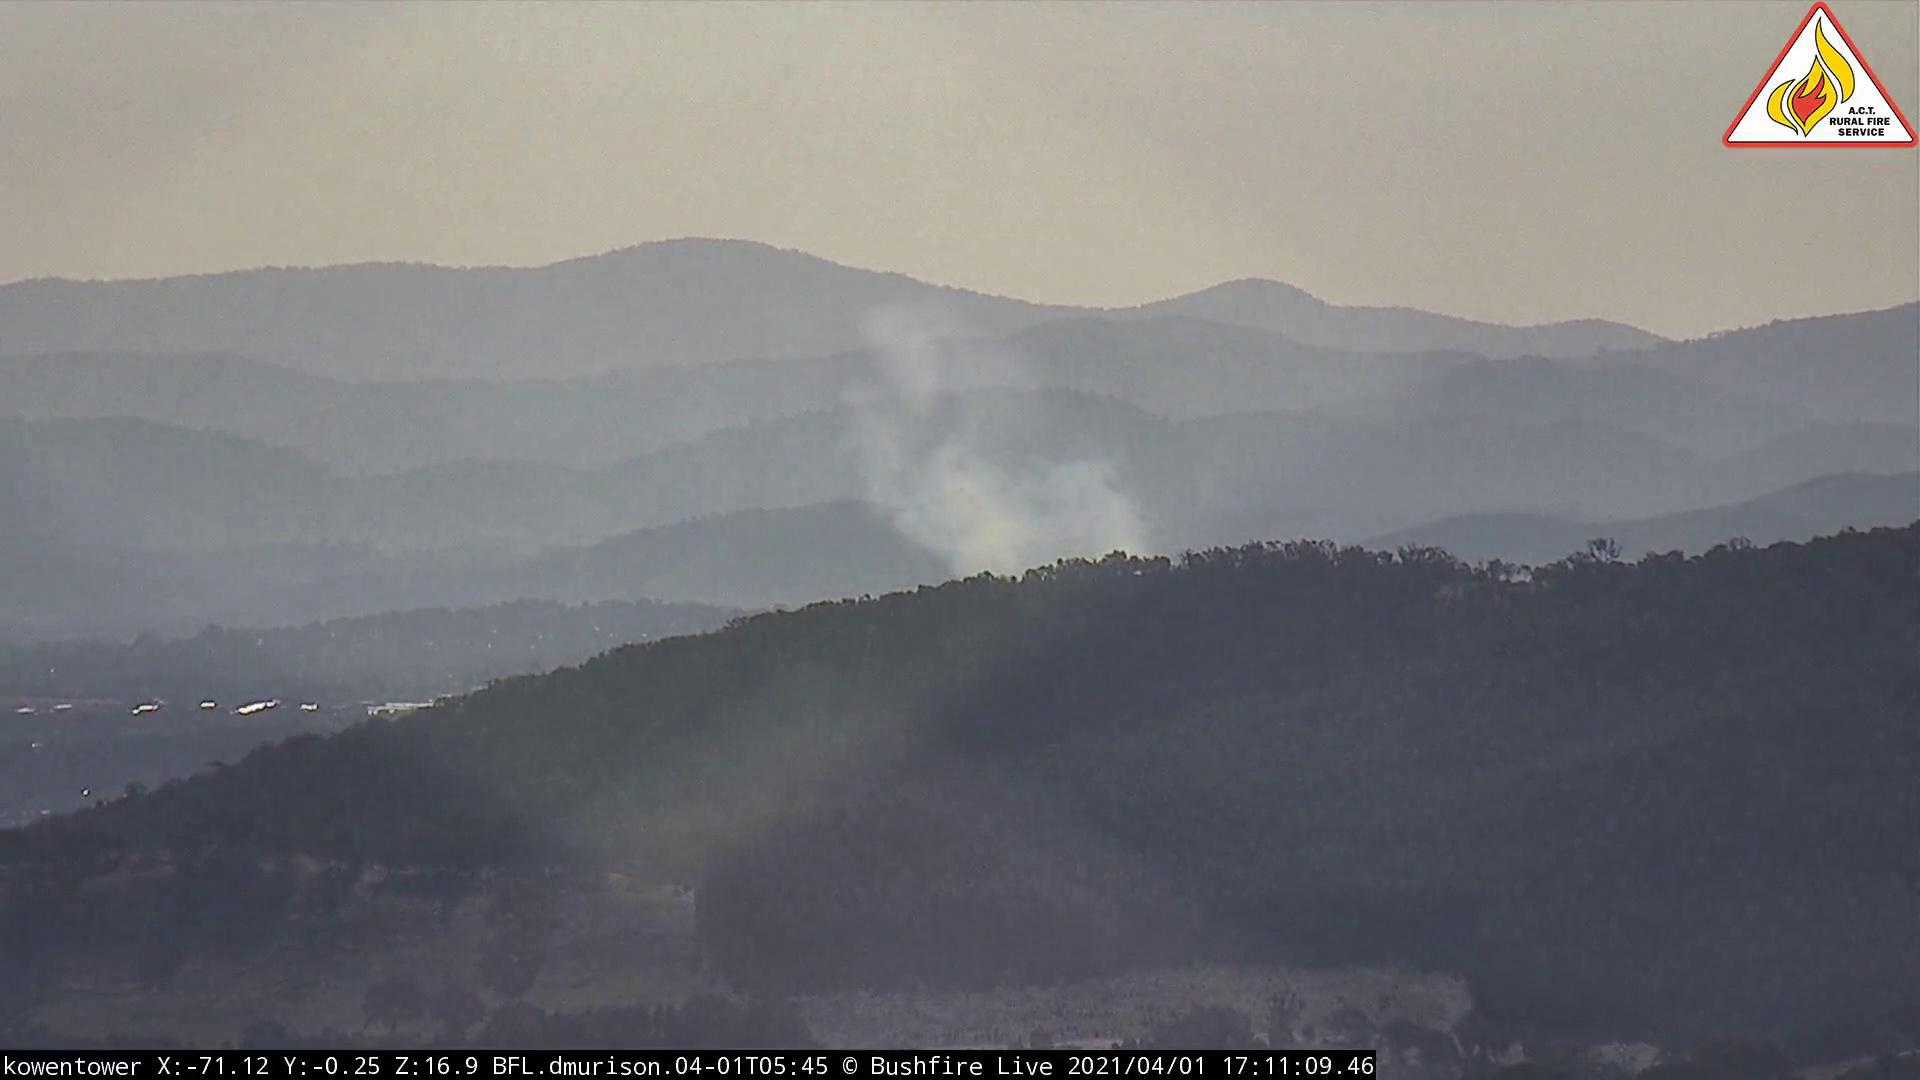Smoke: (770, 278, 1208, 603)
